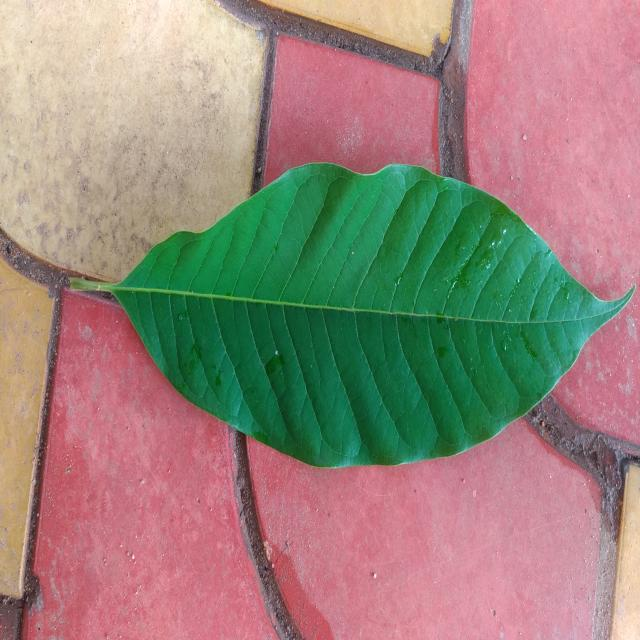coffee: (71, 162, 632, 467)
